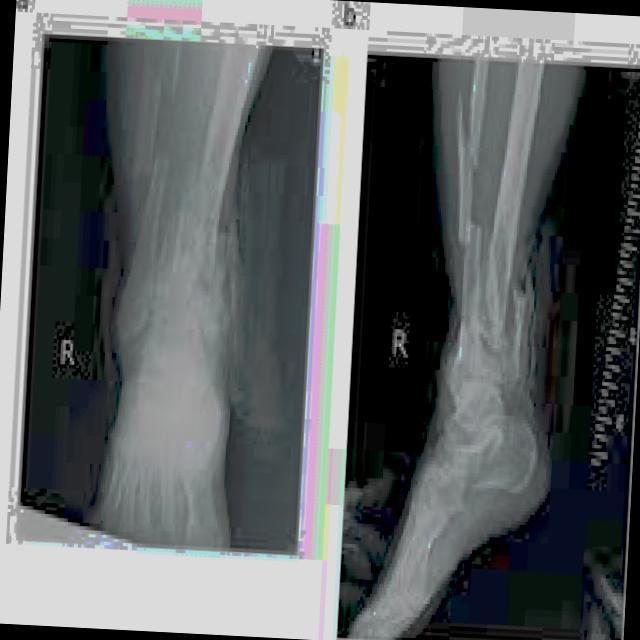Comminuted Fracture: (454, 108, 488, 178), (459, 225, 499, 268)
